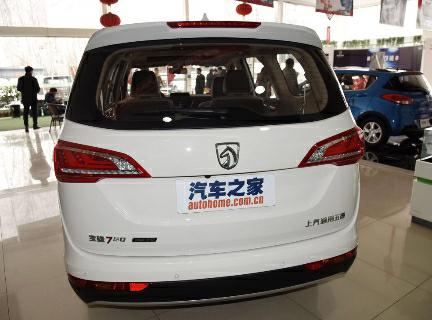宝骏-730: (47, 17, 373, 313)
